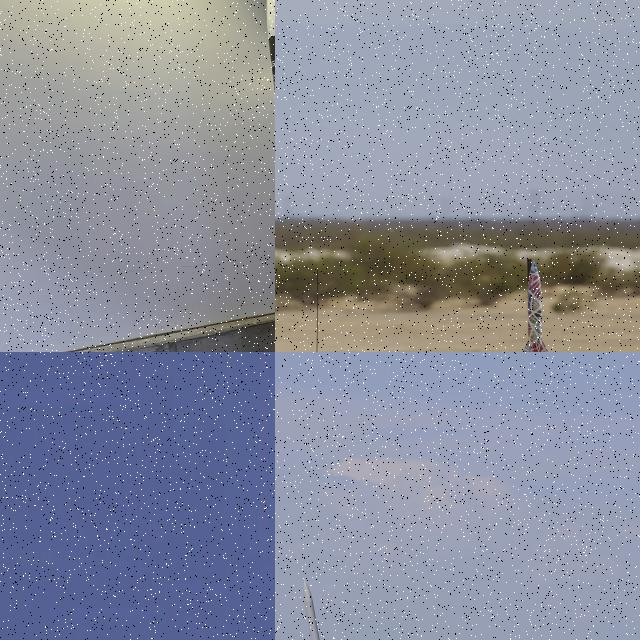Rocket: (514, 258, 556, 352), (302, 578, 320, 640)
